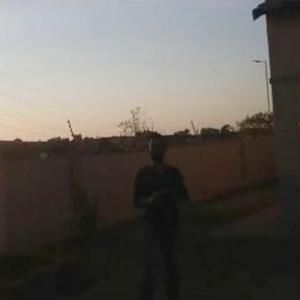follow: (124, 125, 198, 299)
